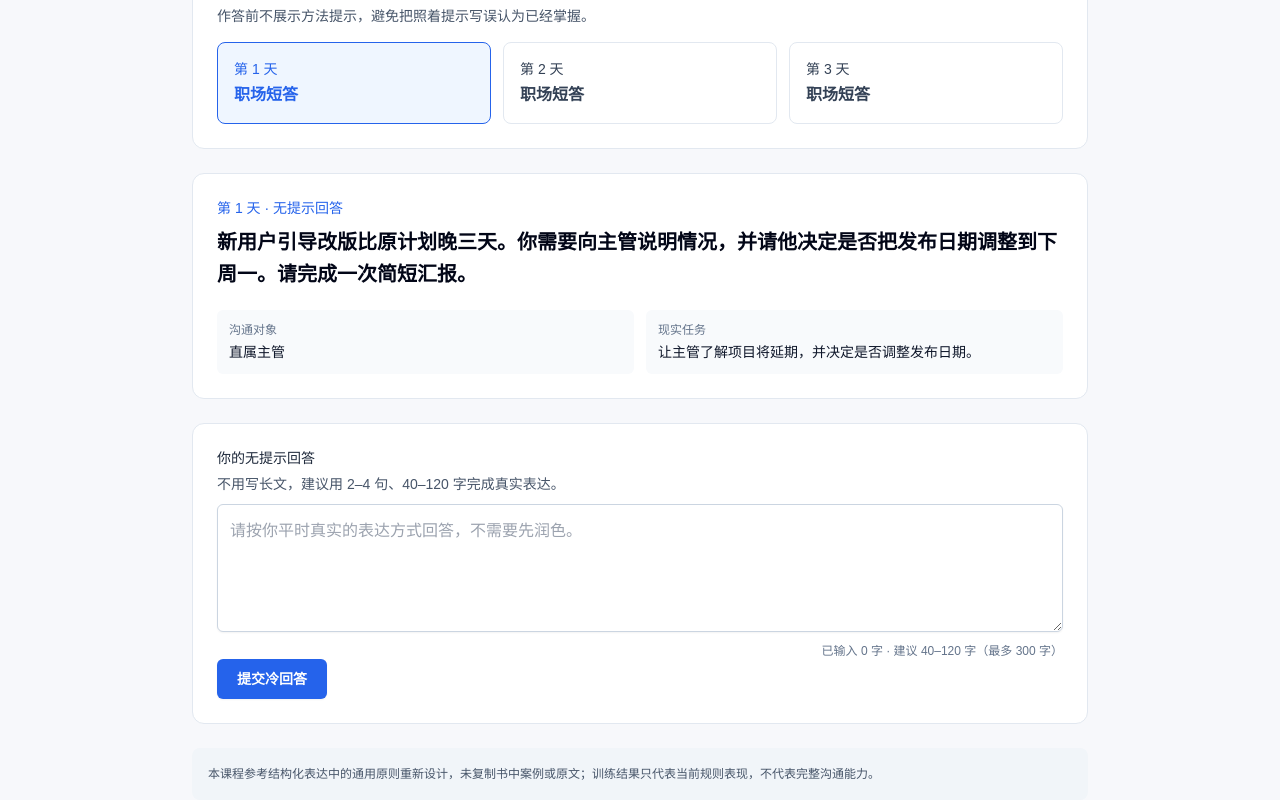
Module 10 classic structured-practice public route › 用户可以明确选择原回答没有核心结论并继续查看反馈
This screenshot has width=1280, height=800.
(page scrolled)
Type "新用户引导改版比原计划晚三天，相关联调仍在进行。我建议把发布日期调整到下周一，请主管今天确认。" into the text box labelled "你的无提示回答" at coordinates (640, 568), box x1=217 y1=504 x2=1063 y2=632
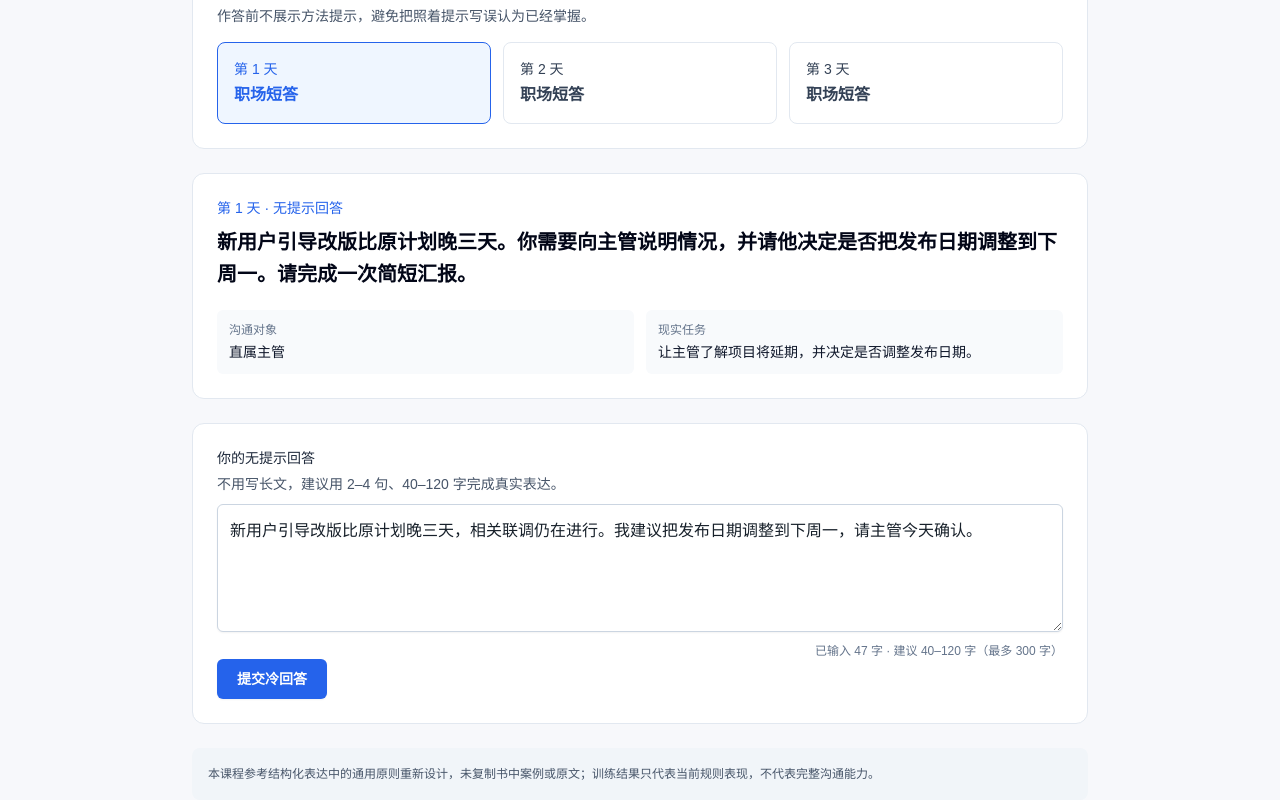
Click the button "提交冷回答" at coordinates (272, 679), box x1=217 y1=659 x2=327 y2=699
(page scrolled)
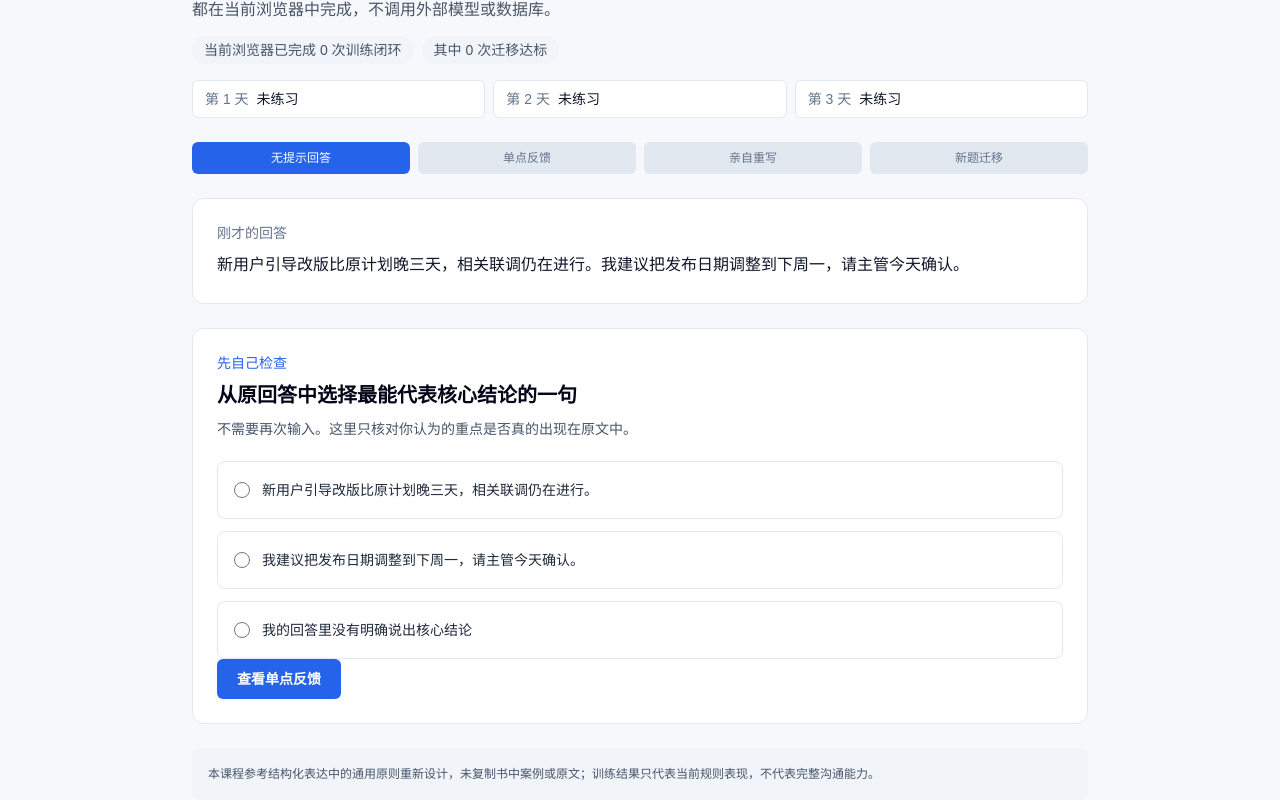
Click the radio button labelled "我的回答里没有明确说出核心结论" at coordinates (242, 630), box x1=234 y1=622 x2=250 y2=638
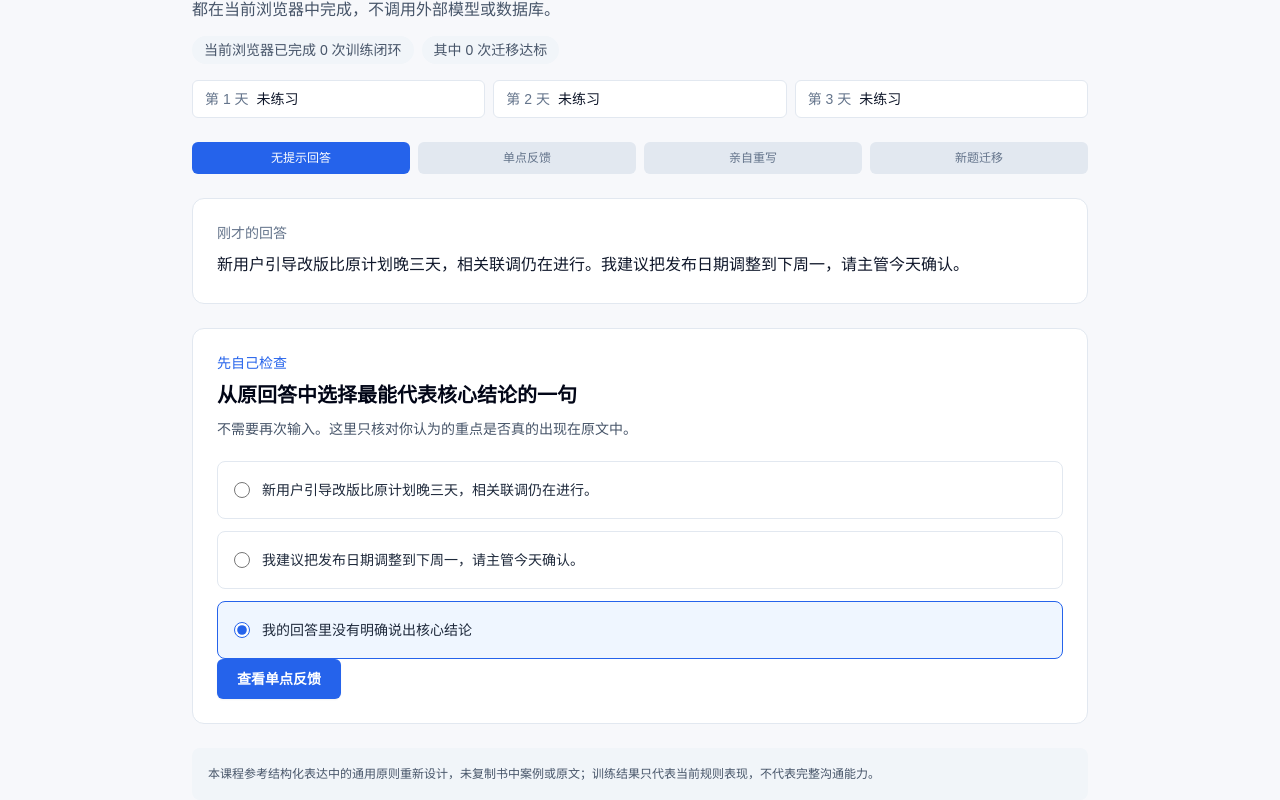
Click the button "查看单点反馈" at coordinates (279, 679), box x1=217 y1=659 x2=341 y2=699
(page scrolled)
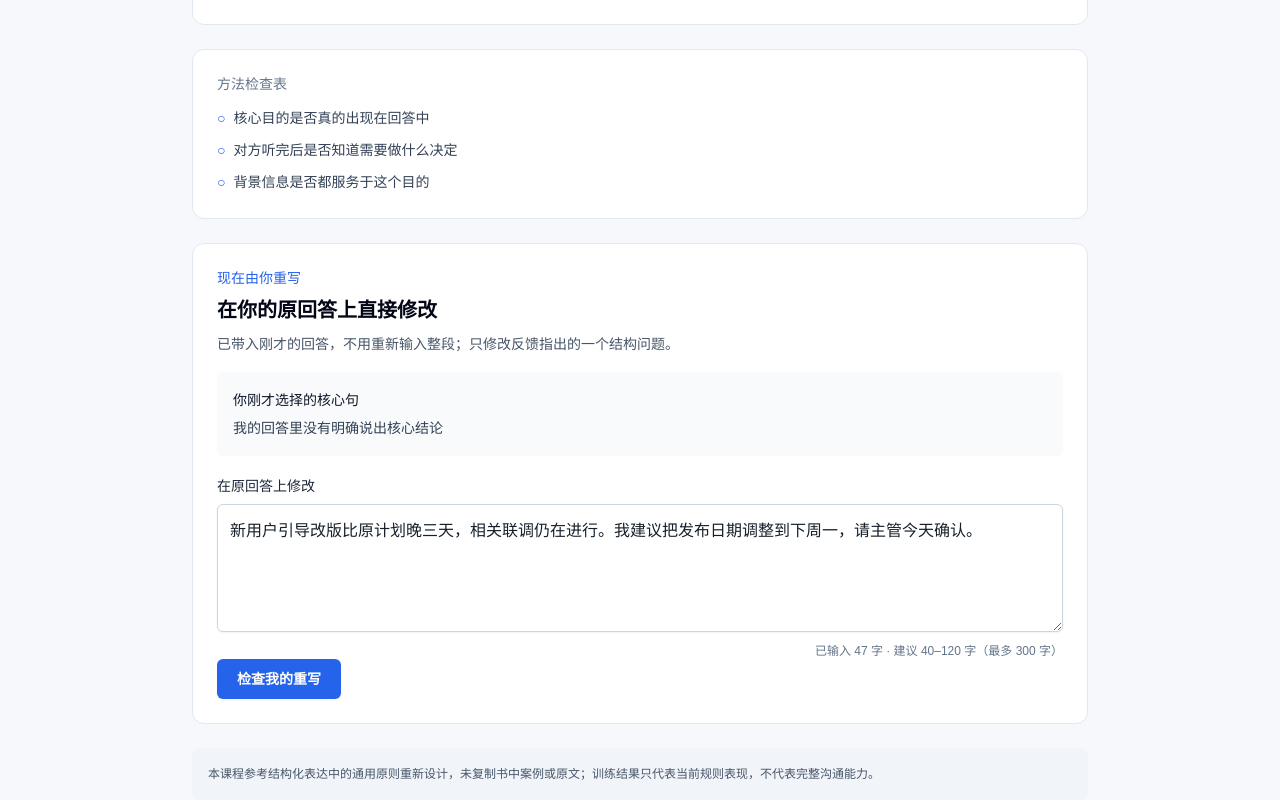
Now the text box labelled "在原回答上修改" holds "新用户引导改版比原计划晚三天，相关联调仍在进行。我建议把发布日期调整到下周一，请主管今天确认。", box x1=217 y1=504 x2=1063 y2=632
